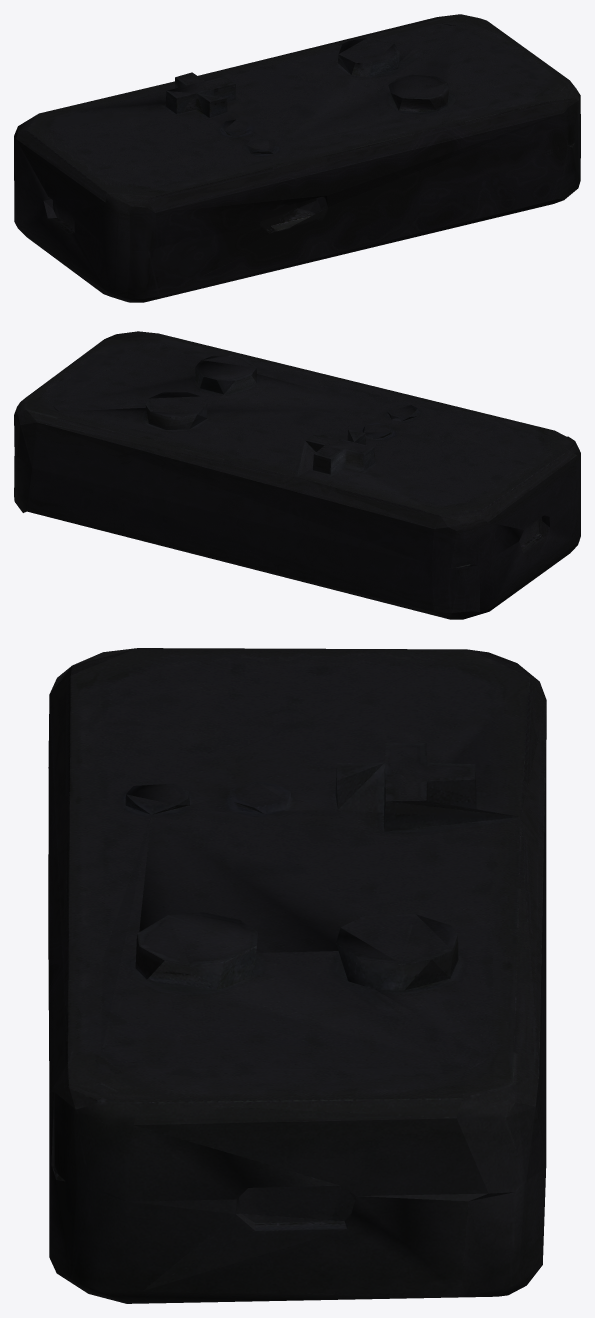
File: IT_Clutter_RemoteControl.fbx
3 renders of one model, top to bottom at view 1: azimuth 30°, elevation 25°; view 2: azimuth 150°, elevation 25°; view 3: azimuth 270°, elevation 25°, orthographic. The views are drawn at different scales.
Visible parts, largest first — view 1: Mesh_0; view 2: Mesh_0; view 3: Mesh_0.
Part boxes in pixels (x1,y1,x2,y2): Mesh_0: [14, 14, 580, 302]; Mesh_0: [14, 331, 580, 619]; Mesh_0: [48, 648, 546, 1303].
Bounding box in the file's own units: 190 × 46.11 × 86.1.
Materials: 1 (1 with a texture image).
